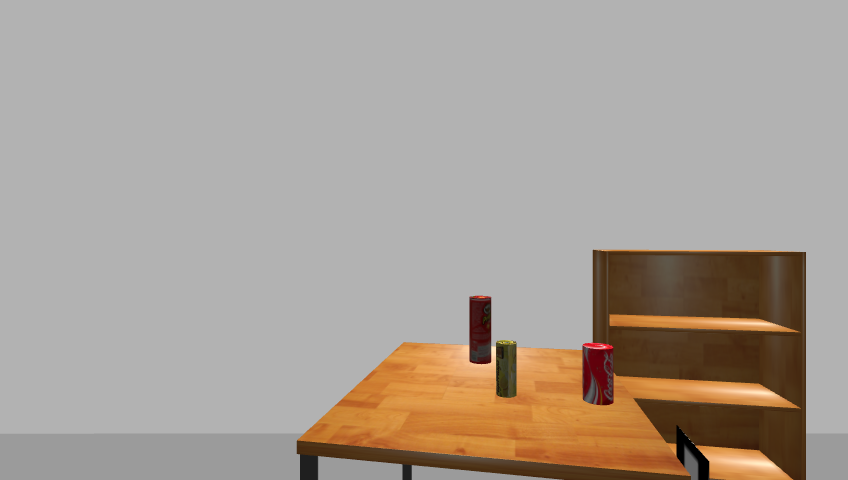aruco marker: (673, 426, 713, 480)
biscuits pack: (496, 340, 519, 399)
bookshelf: (586, 248, 814, 479)
coke can: (581, 343, 615, 406)
dinner table: (290, 341, 695, 479)
pringles can: (466, 294, 494, 366)
